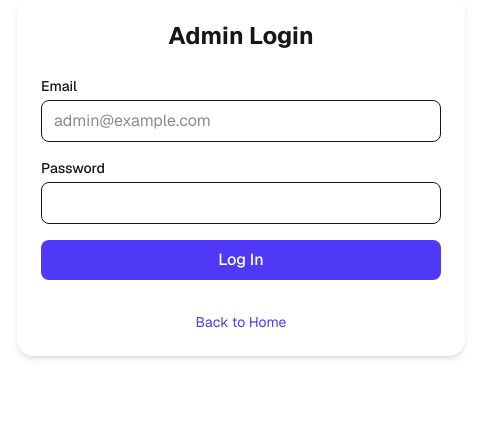
Test: AdminLoginForm › shows validation errors for empty fields
The image size is (483, 425).
Note: Submit the form without filling in any fields
What coordinates should you click on to do the following:
click the button "Log In"
I would click on:
 (241, 260)
Its box is x1=41 y1=240 x2=441 y2=280.
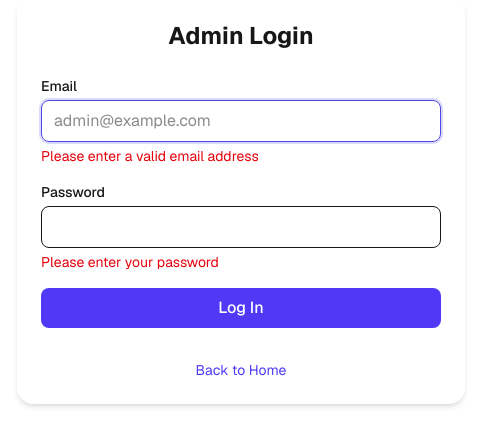
Now the text "Please enter a valid email address" is shown, box x1=41 y1=147 x2=259 y2=165
Now the text "Please enter your password" is shown, box x1=41 y1=253 x2=219 y2=271
